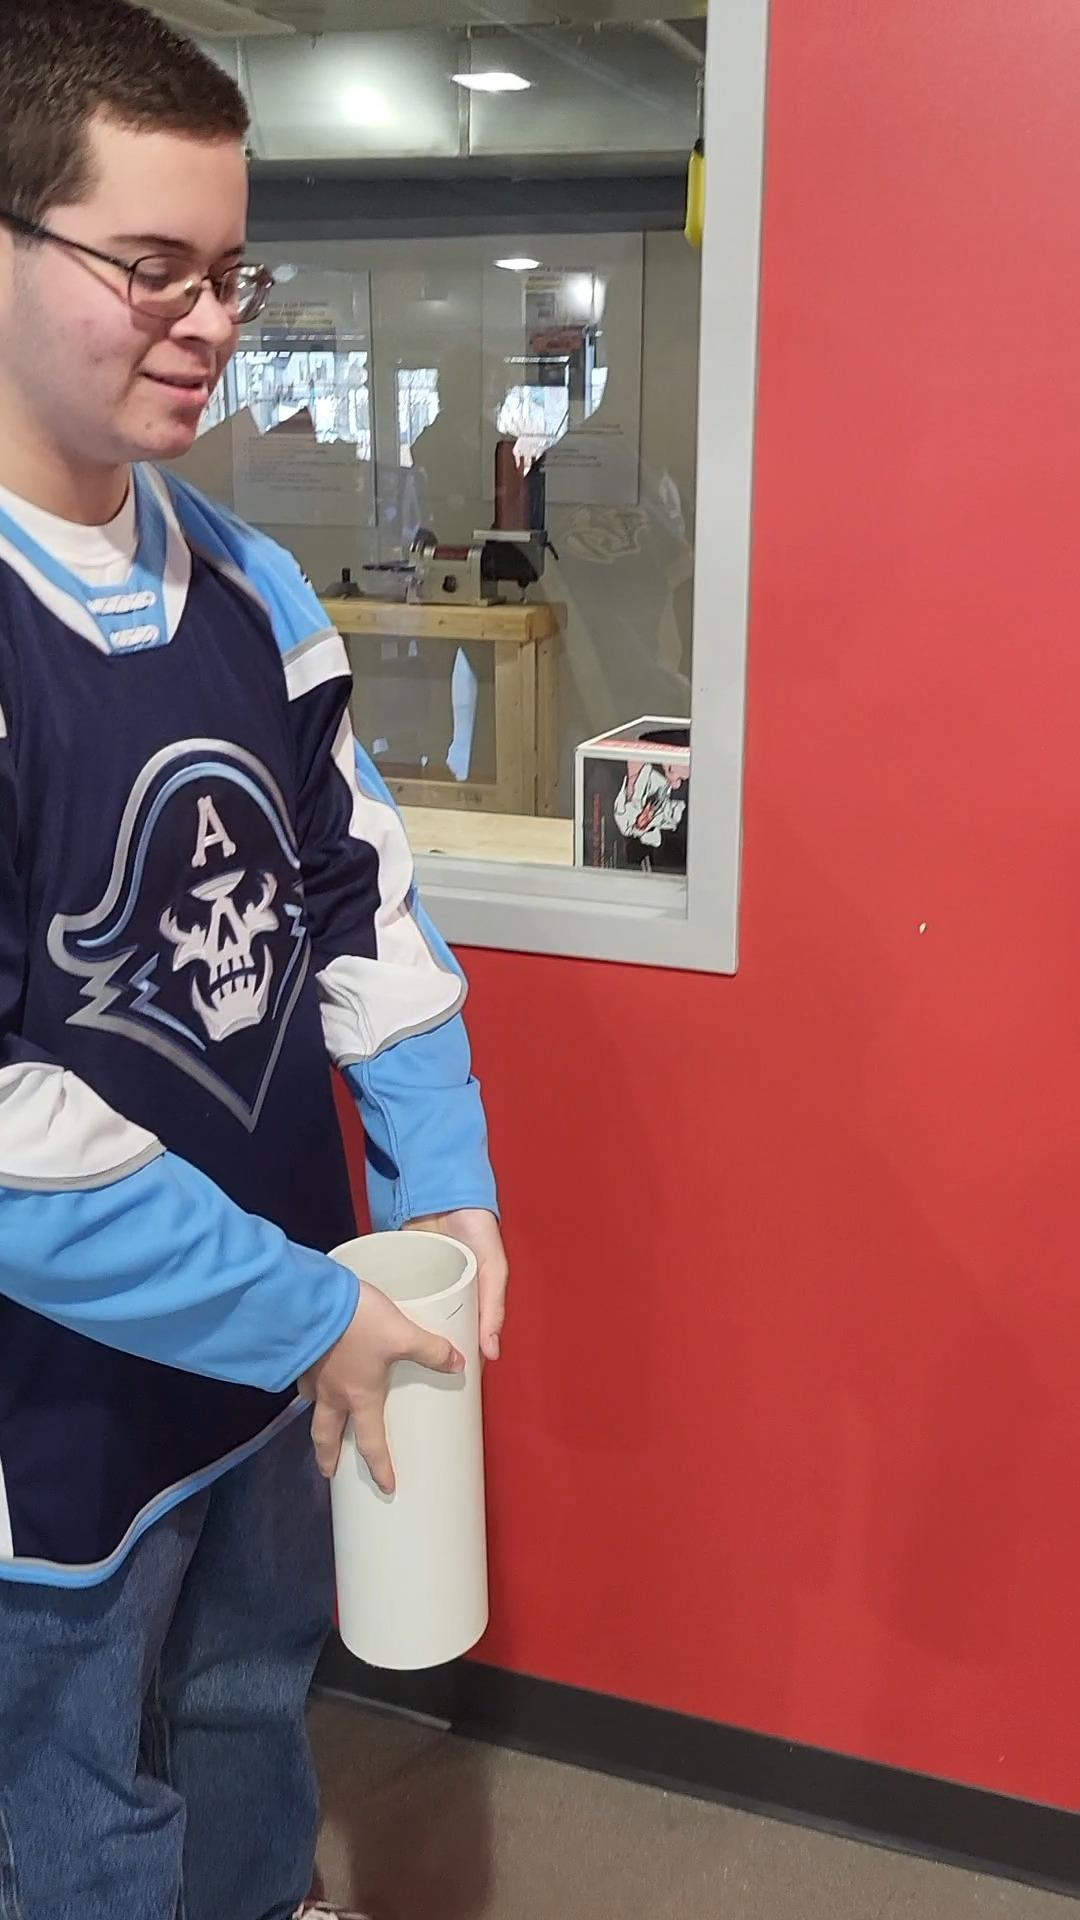coral: (327, 1217, 480, 1691)
